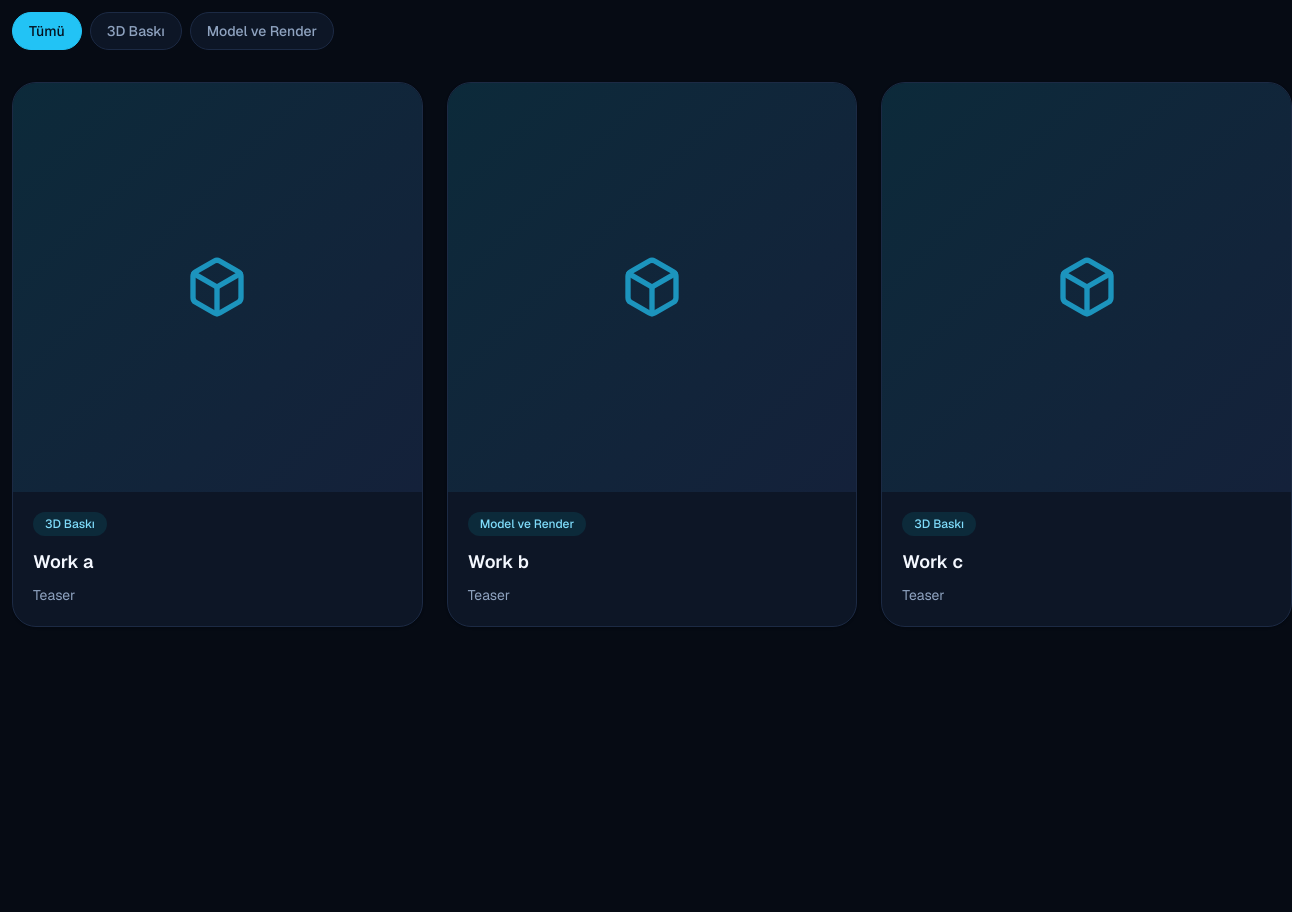
Test: GalleryGrid › filters by category and can show everything again
Click the button "Model ve Render".
click(262, 31)  # box [190, 12, 334, 50]
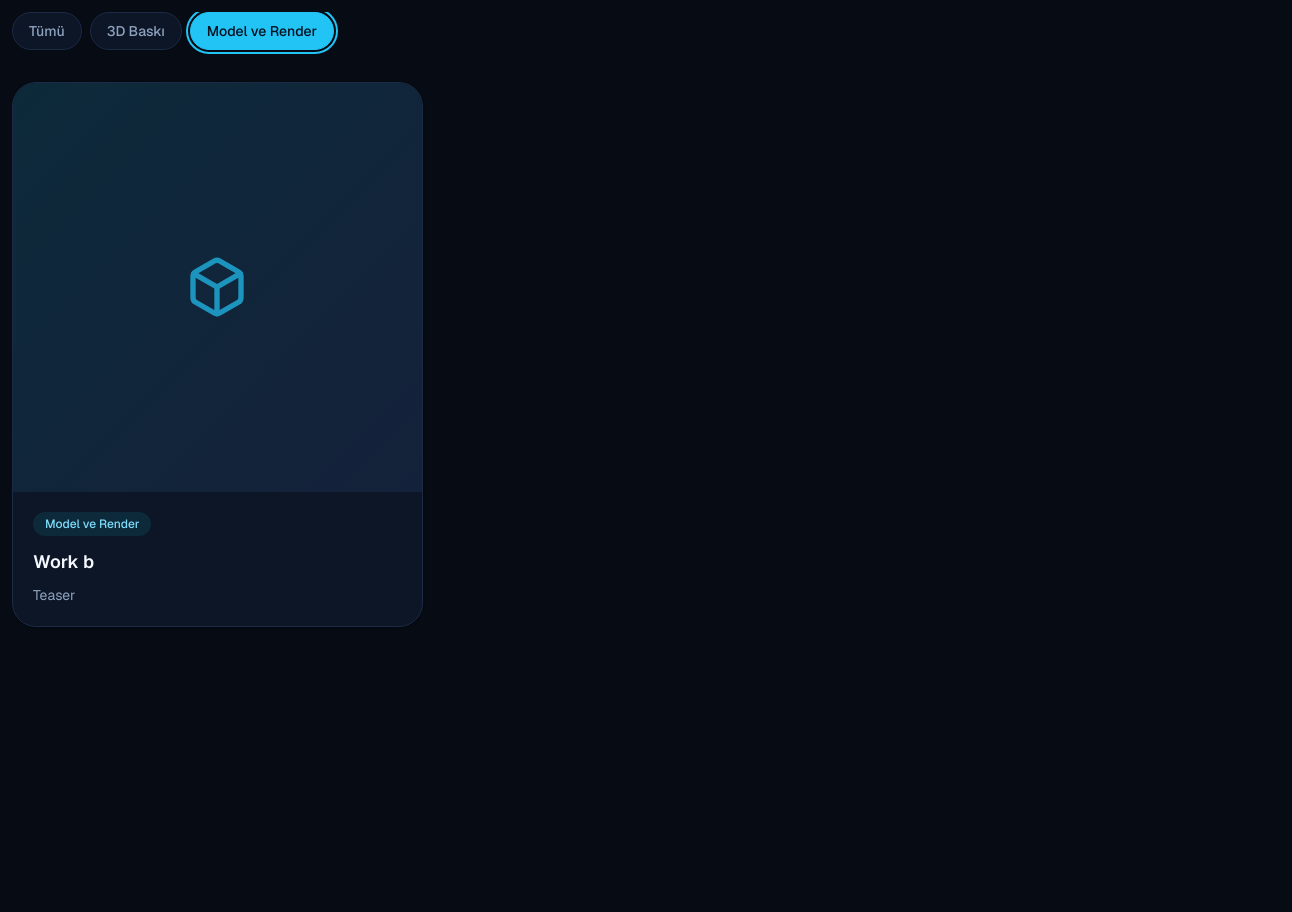
Now the number of headings is 1, box [33, 550, 94, 573]
Click the button "Tümü".
click(47, 31)  # box [12, 12, 82, 50]
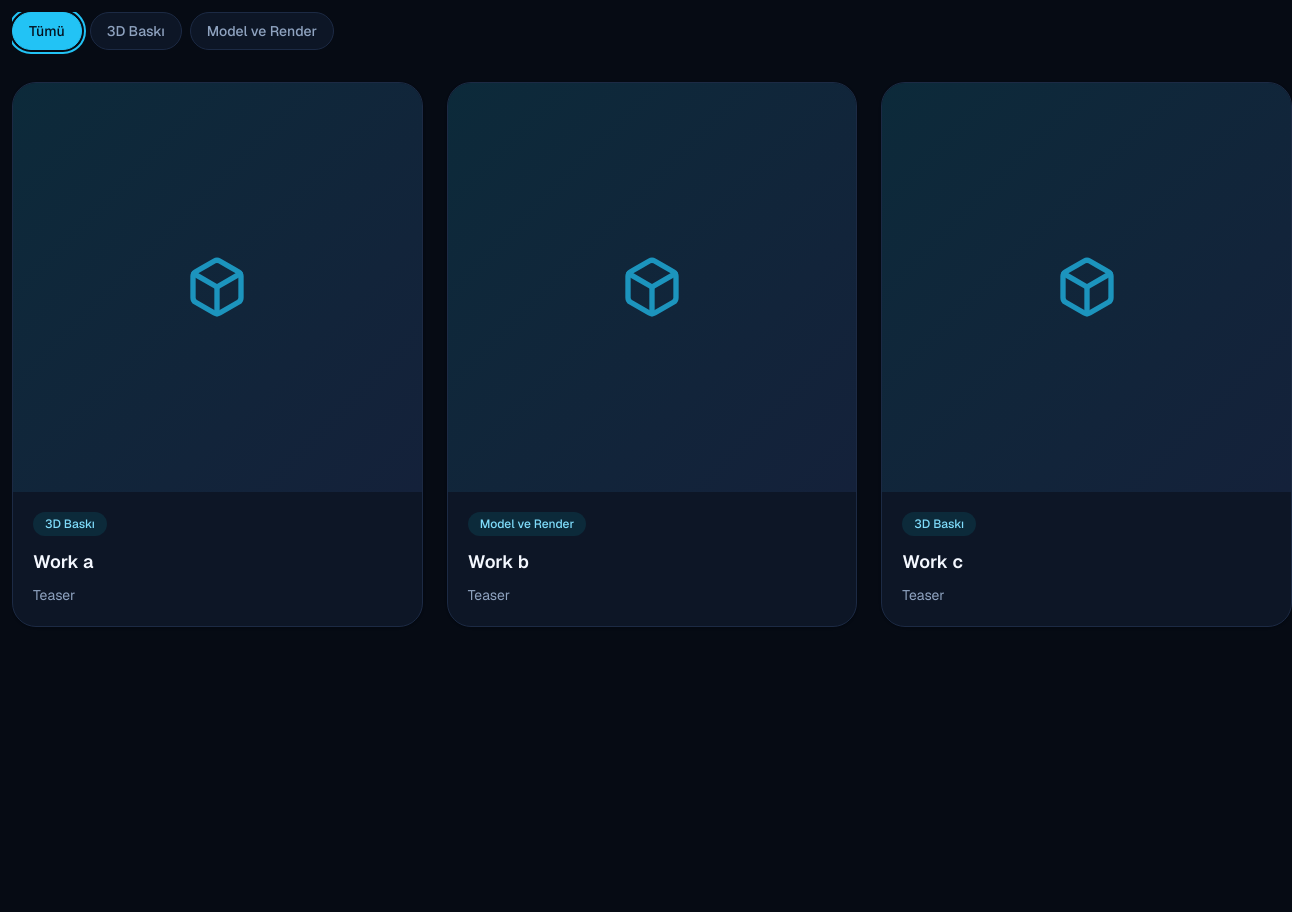
Now the number of headings is 3, box [33, 550, 94, 573]; [468, 550, 529, 573]; [902, 550, 963, 573]
